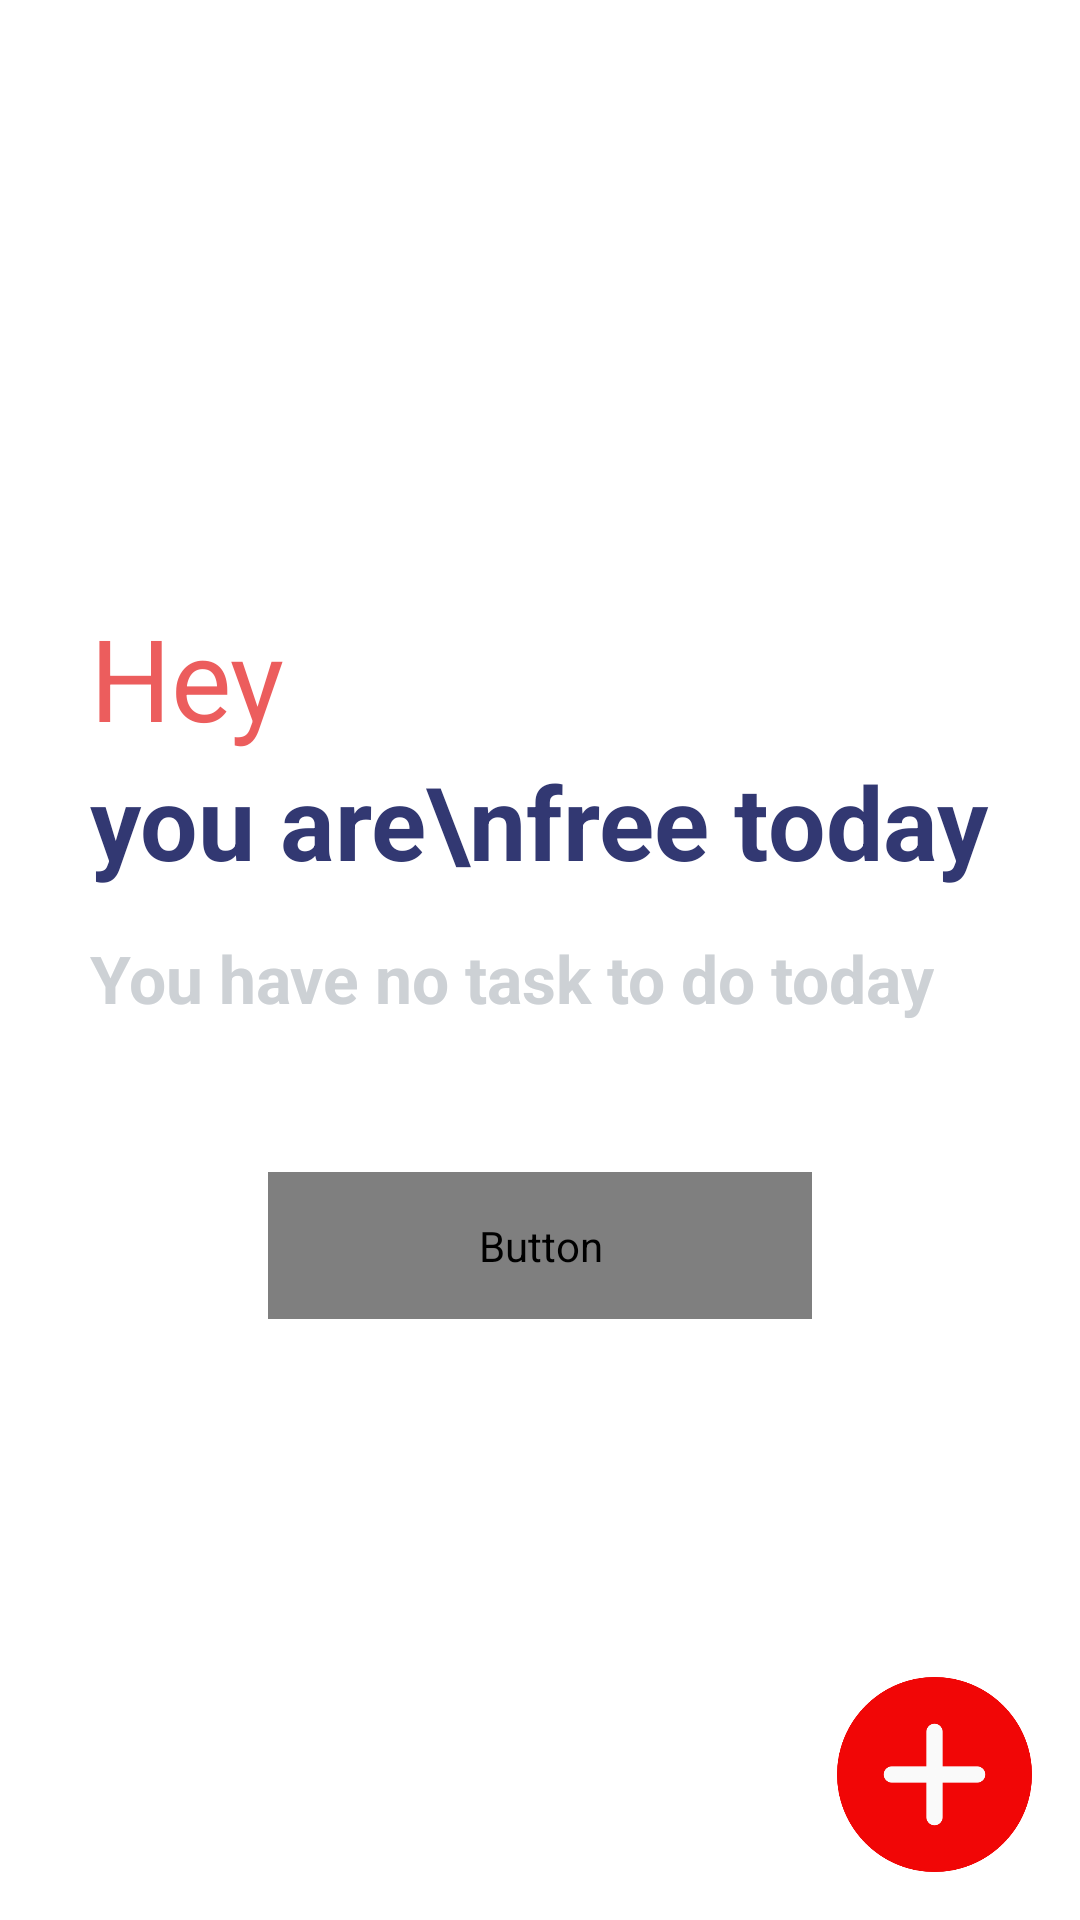

Icon click points for this 1080 × 1920 phone screenshot, format [x,y]:
Add Task: [934,1774]
